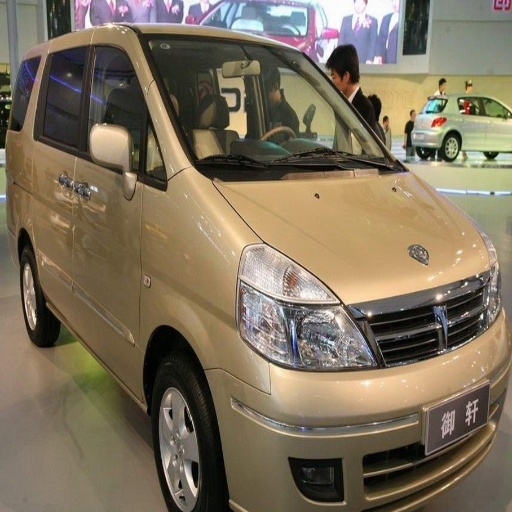front_bumper: (208, 333, 508, 509)
front_right_door: (68, 41, 171, 372)
front_right_light: (238, 245, 377, 370)
hood: (201, 172, 495, 364)
